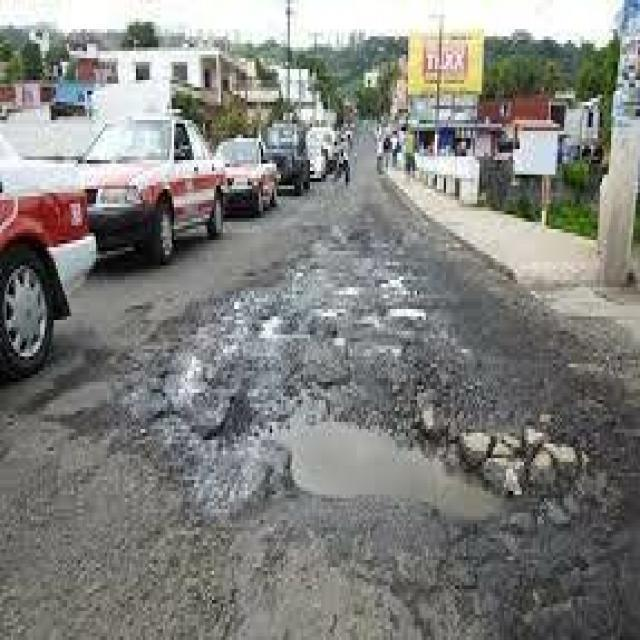pothole: (152, 295, 602, 564)
